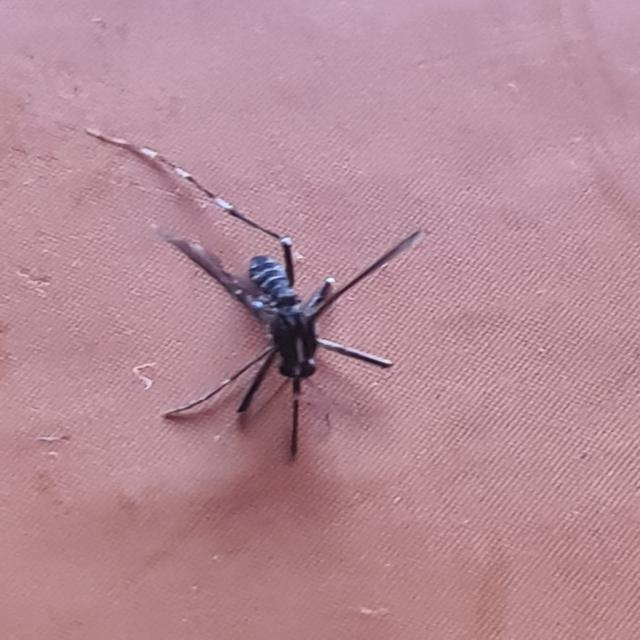albopictus: (112, 136, 426, 449)
